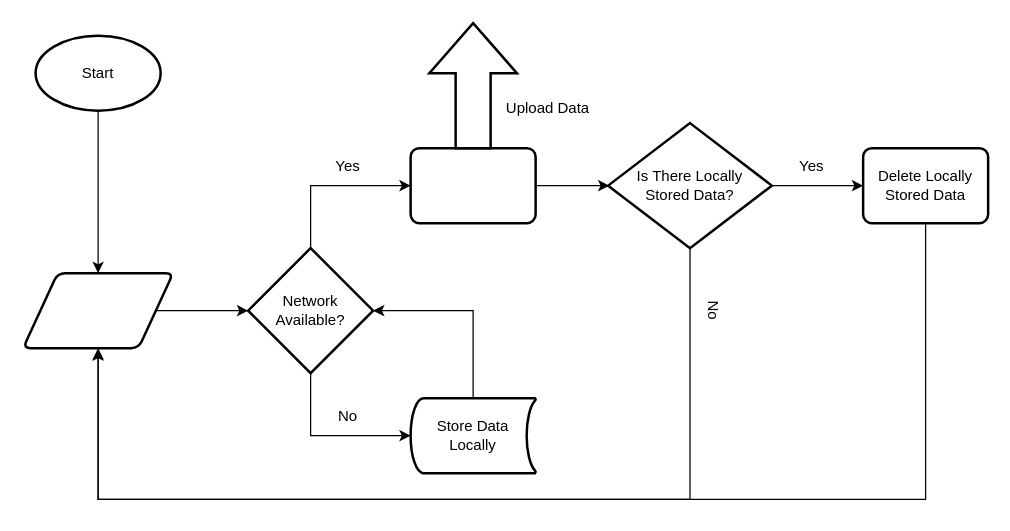
This 1010x531 diagram has some shape labels left out. The centre of each missing label's shape, as x and y in pixels:
Collect Sensor Data: (97,310)
Transmit Data to Raspberry PI: (472,185)
